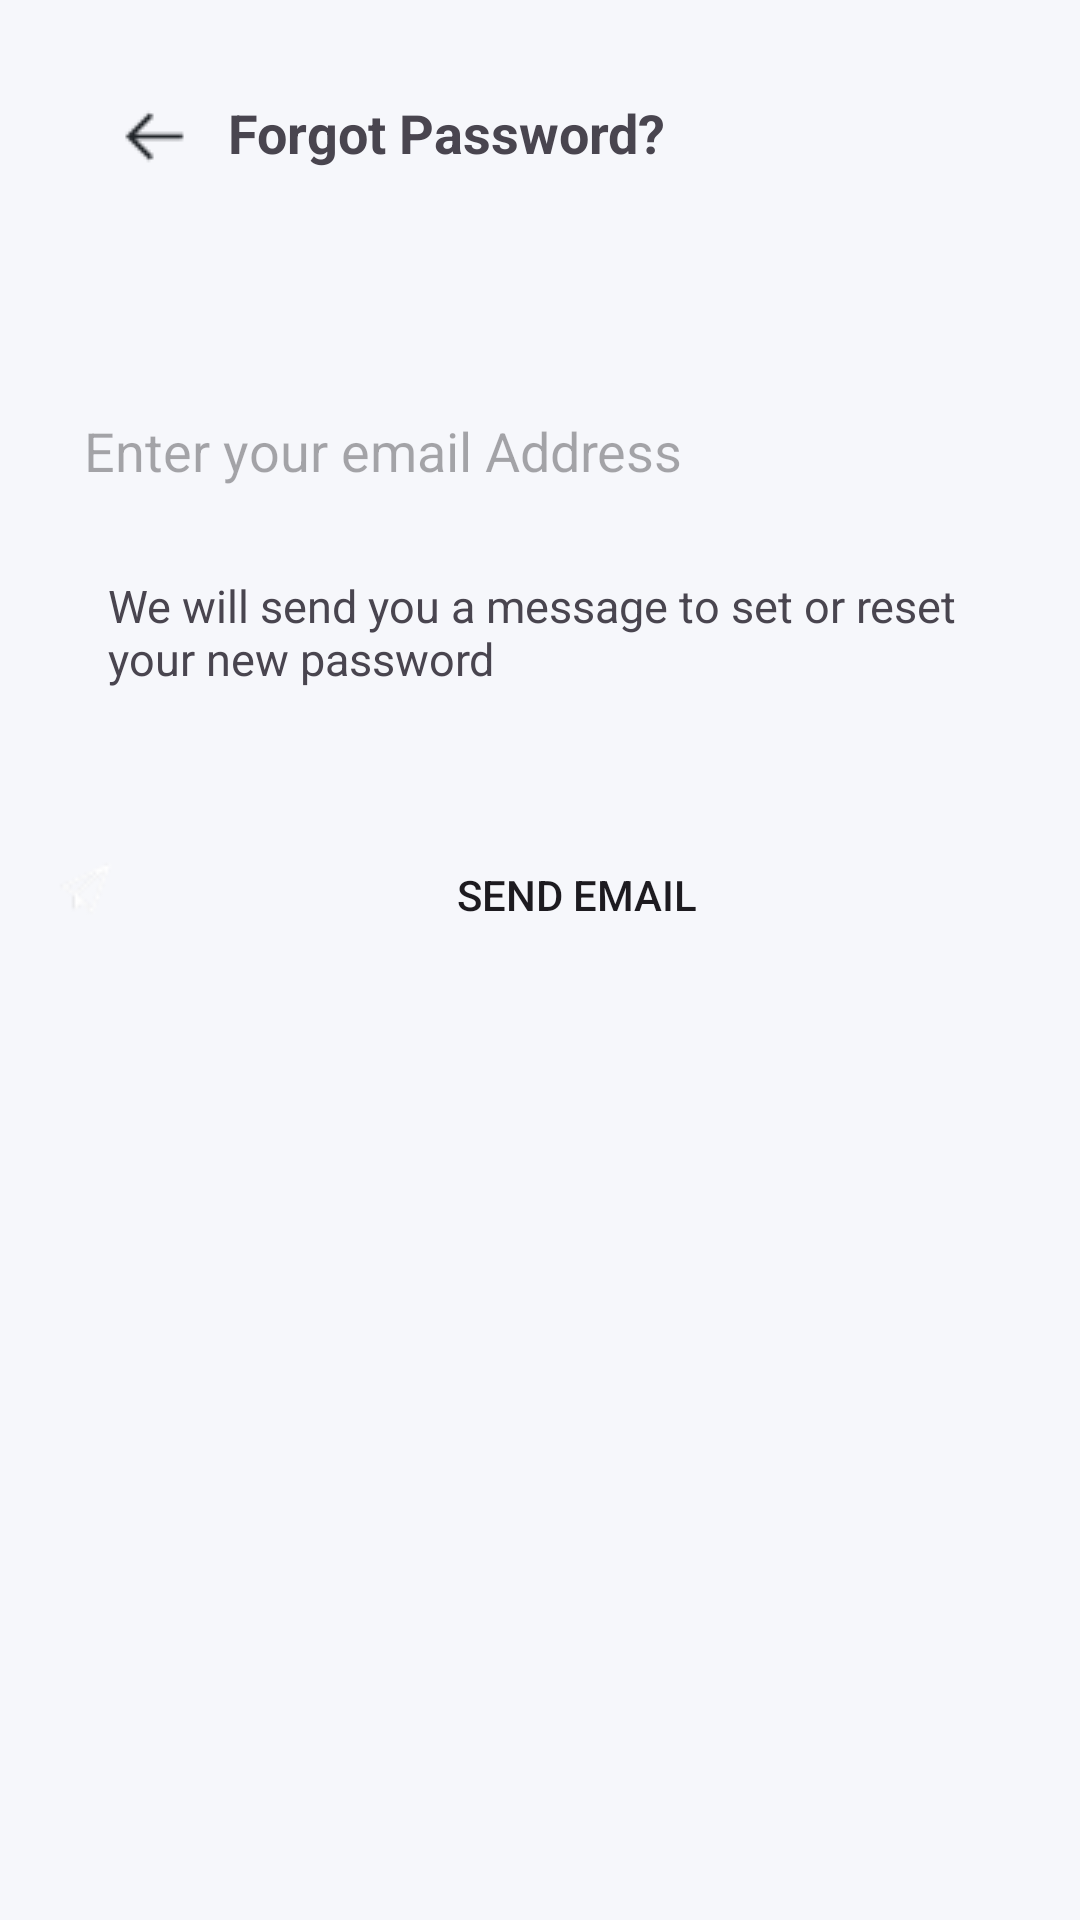

Where icons sit on this 1080px x 1920px app screen, as rect(x1, y1, x2, y2):
carbon arrow: rect(125, 113, 184, 161)
